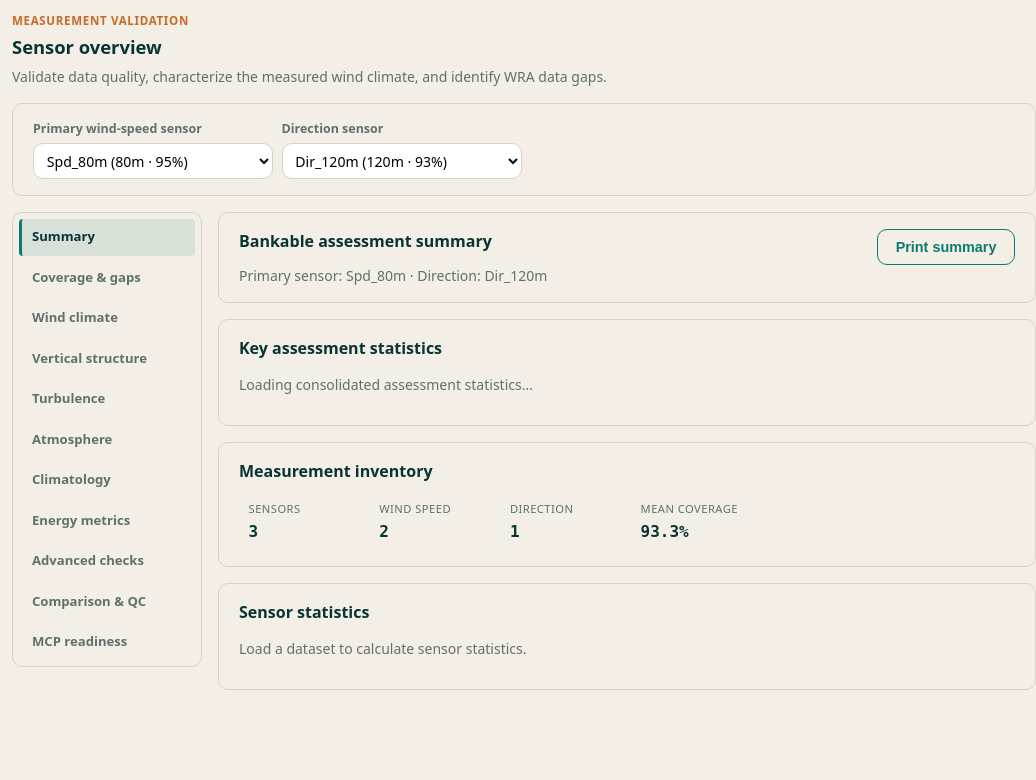
Sensor Overview › shows the turbulence analysis state
The image size is (1036, 780).
What coordinates should you click on to do the following:
click the button "Turbulence"
I would click on:
 (107, 399)
Its box is [19,380,195,418].
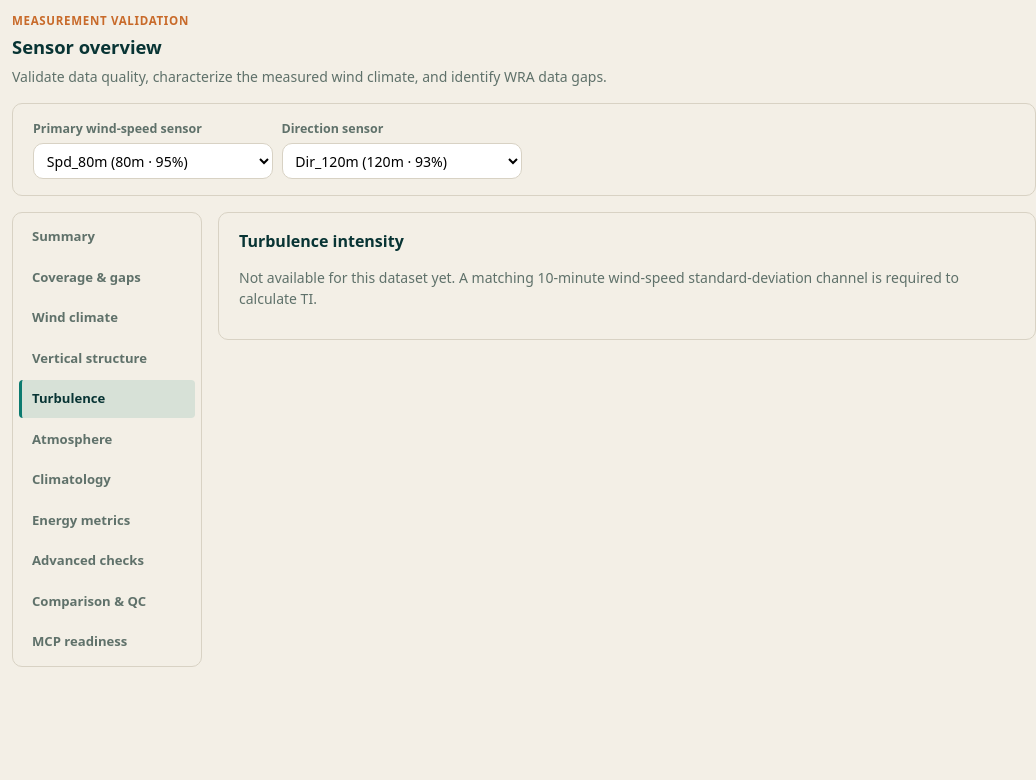
Expected: the heading "Turbulence intensity" is shown, [239,230,404,252]
